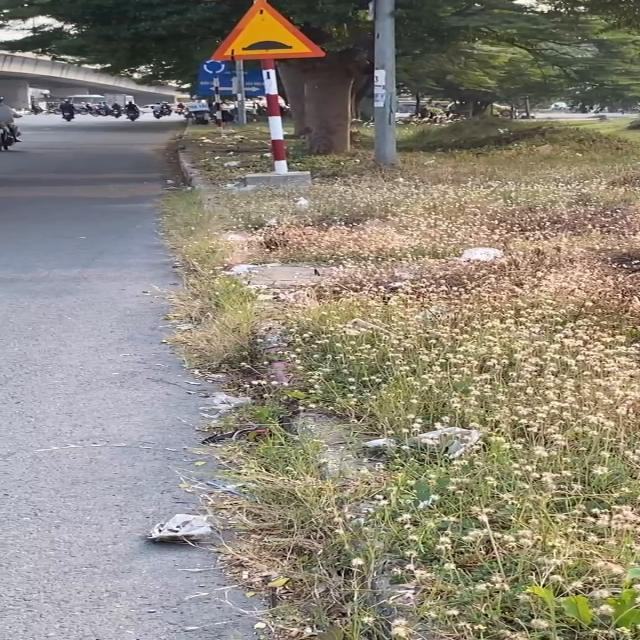221-duong-go-ghe: (208, 2, 327, 62)
303-noi-giao-nhau-chay-theo-vong-xuyen: (201, 58, 228, 76)
